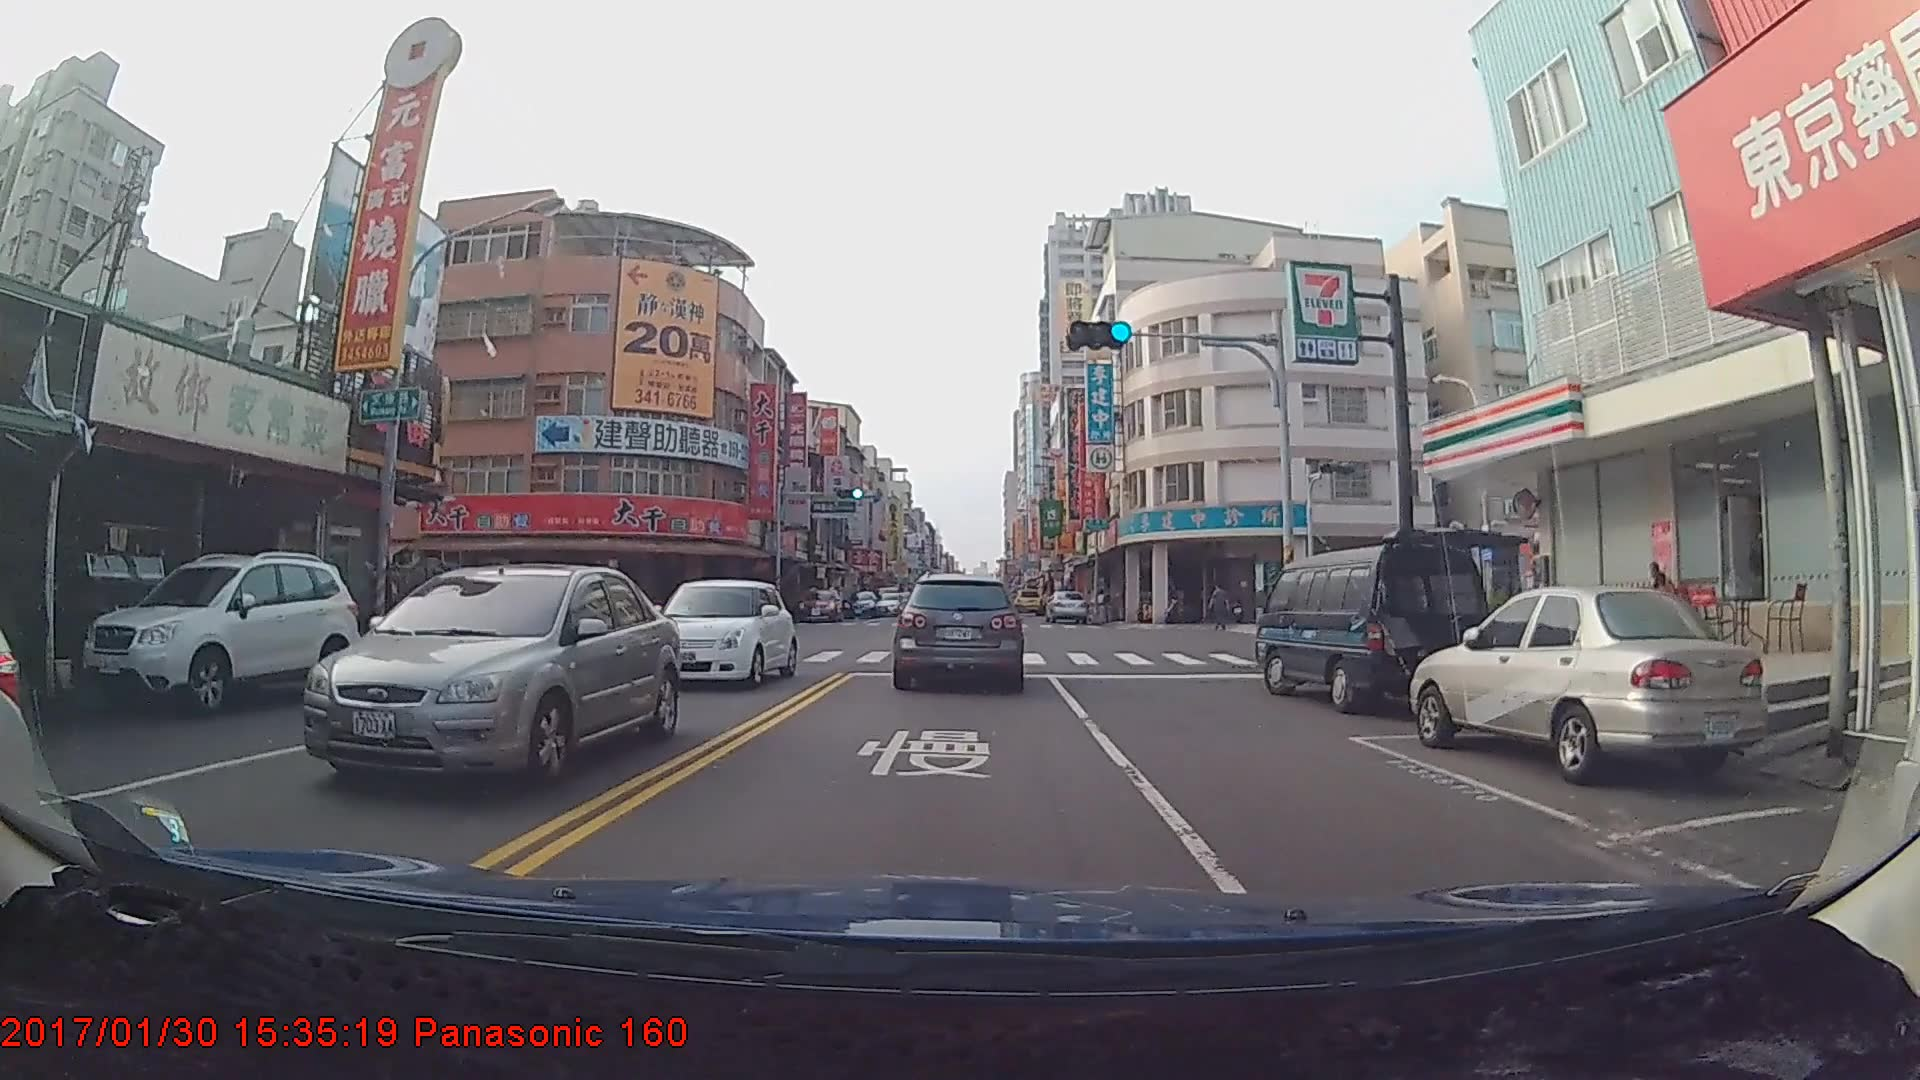pedestrian: (1212, 584, 1233, 635)
vehicle: (298, 557, 682, 792), (1417, 580, 1768, 785), (69, 548, 364, 719), (1257, 540, 1493, 715), (635, 575, 794, 689), (896, 571, 1024, 690), (1044, 587, 1091, 625), (798, 584, 842, 619), (842, 589, 879, 615), (1013, 586, 1043, 612)
